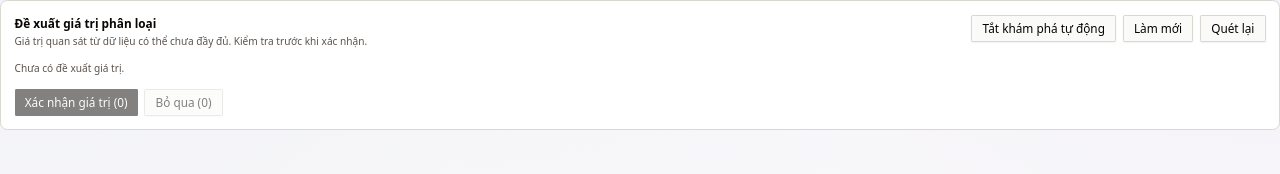
starts a background scan and reports a safe error without rendering provider details
Expected: the text "Chưa có đề xuất giá trị." is shown, [14,61,124,75]
Click the button "Quét lại".
click(1233, 28)  # box [1200,14,1266,42]
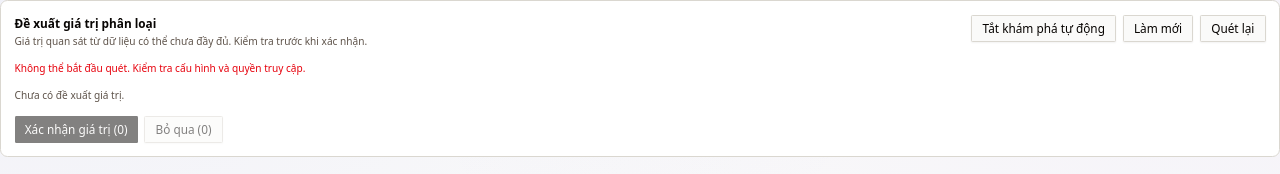
Now the message shows "Không thể bắt đầu quét", box [14,61,306,75]
